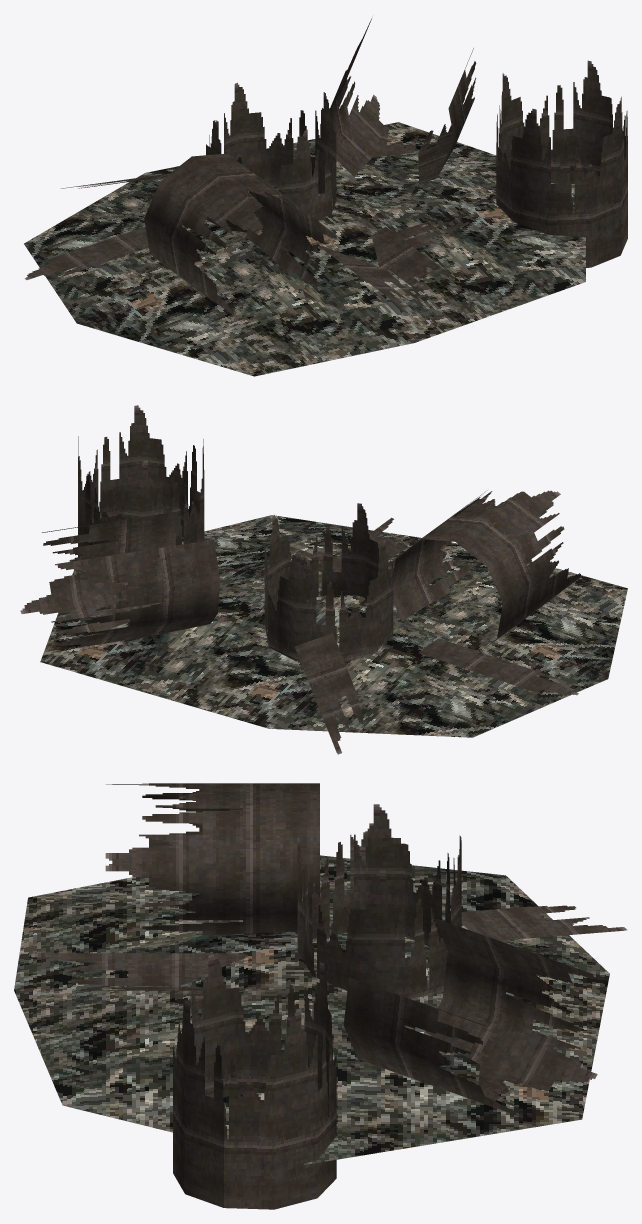
Rendered from MBAREL2x.glb.
The picture shows the model from 3 angles, top to bottom: view 1: azimuth 30°, elevation 25°; view 2: azimuth 150°, elevation 25°; view 3: azimuth 270°, elevation 25°; orthographic projection. The views are drawn at different scales.
Visible parts, largest first — view 1: _MBAREL2x; view 2: _MBAREL2x; view 3: _MBAREL2x.
Boxes of the visible parts, bbox=[...] form: _MBAREL2x: bbox=[24, 18, 627, 376]; _MBAREL2x: bbox=[20, 405, 627, 754]; _MBAREL2x: bbox=[14, 783, 627, 1209].
Bounding box in the file's own units: 4.78 × 1.32 × 3.78.
Materials: 2 (2 with a texture image).
